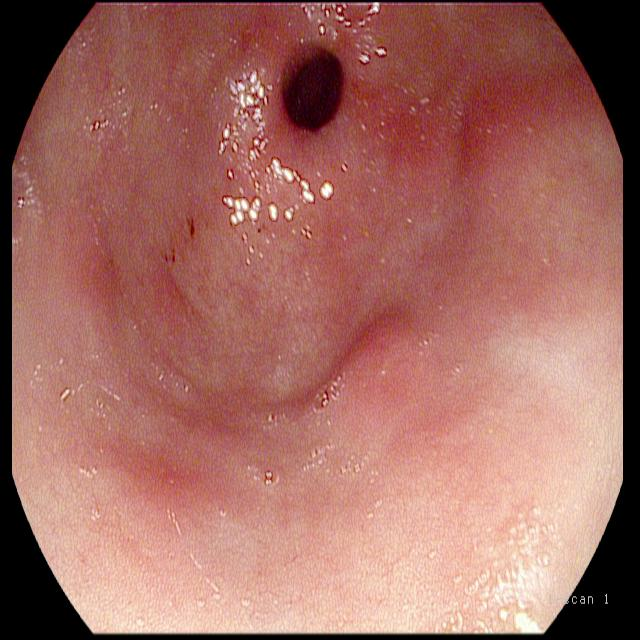normal-pylorus: (32, 0, 617, 481)
